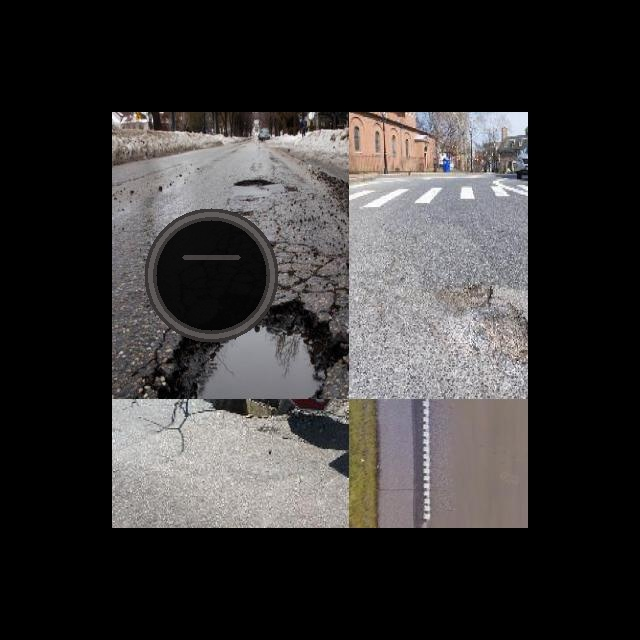open_manhole: (141, 205, 281, 345)
